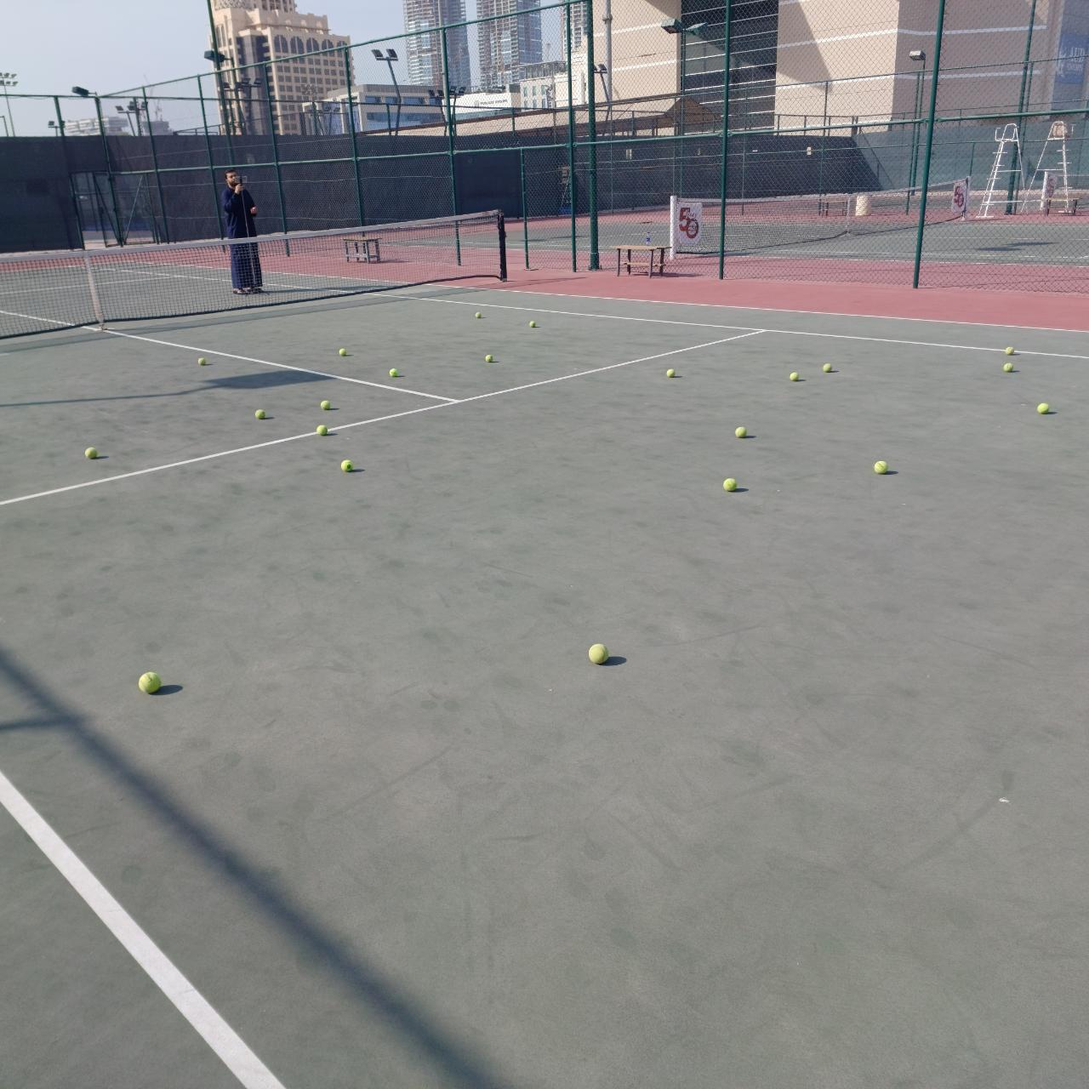tennis-ball: (136, 669, 162, 693), (586, 641, 608, 664), (721, 476, 736, 491), (874, 460, 889, 474), (339, 457, 353, 471), (83, 445, 97, 458), (1036, 403, 1050, 415), (319, 397, 331, 409), (316, 424, 328, 436), (735, 426, 747, 438), (388, 367, 399, 377), (255, 409, 265, 420), (789, 371, 799, 382), (1003, 362, 1013, 372), (823, 363, 832, 373), (1005, 346, 1015, 355), (198, 357, 206, 366), (339, 348, 347, 357), (666, 369, 675, 377), (529, 320, 537, 328), (486, 354, 493, 362), (475, 312, 482, 318)
